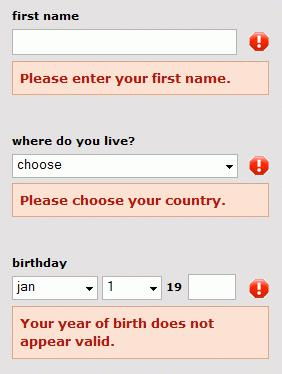error_message: (19, 317, 216, 349), (20, 194, 226, 211), (20, 71, 230, 86)
